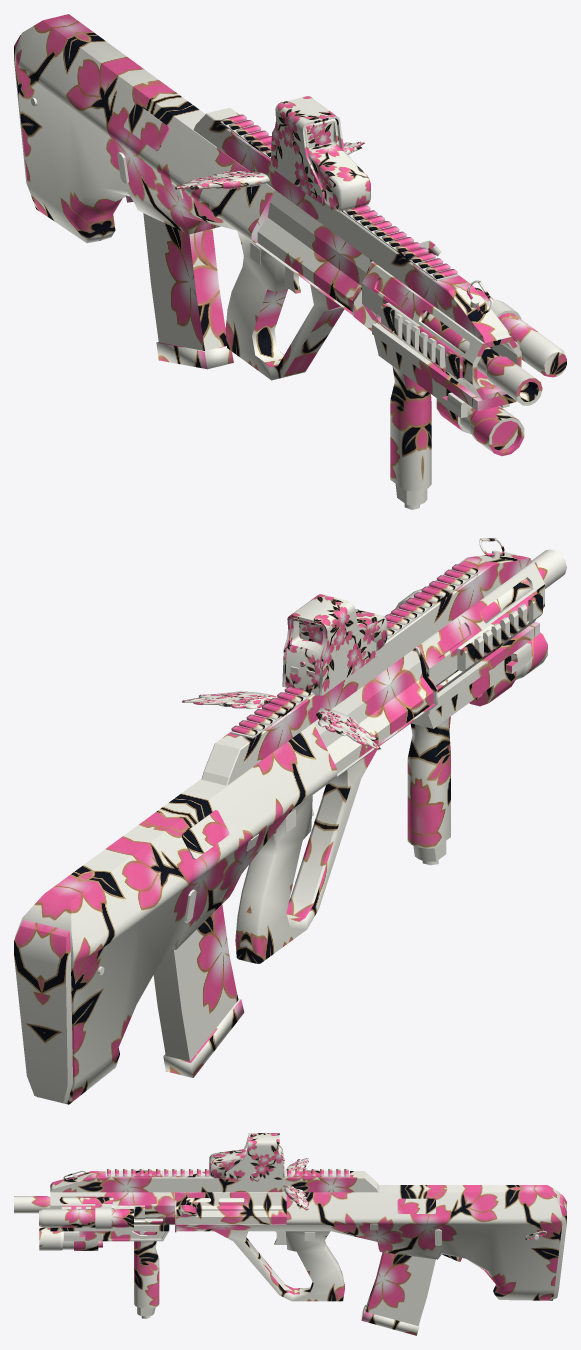
File: sakura_aug_a3_dark_cupid.glb
3 views of the same model, one above another, from view 1: azimuth 30°, elevation 25°; view 2: azimuth 150°, elevation 25°; view 3: azimuth 270°, elevation 25° (orthographic). The views are drawn at different scales.
Visible parts, largest first — view 1: Model_AUG_A3, Model_Magazine, DotSight, Wings_Dark_Cupid_LOD0_R; view 2: Model_AUG_A3, Model_Magazine, DotSight, Wings_Dark_Cupid_LOD0_R, Wings_Dark_Cupid_LOD0_L; view 3: Model_AUG_A3, Model_Magazine, DotSight, Wings_Dark_Cupid_LOD0_L.
Boxes of the visible parts, <box> form: Model_AUG_A3: <box>14,14,566,509</box>; Model_Magazine: <box>143,213,233,369</box>; DotSight: <box>270,96,370,211</box>; Wings_Dark_Cupid_LOD0_R: <box>174,171,269,189</box>; Model_AUG_A3: <box>14,538,566,1104</box>; Model_Magazine: <box>153,904,244,1077</box>; DotSight: <box>282,594,387,696</box>; Wings_Dark_Cupid_LOD0_R: <box>316,707,380,750</box>; Wings_Dark_Cupid_LOD0_L: <box>182,691,277,709</box>; Model_AUG_A3: <box>14,1169,566,1318</box>; Model_Magazine: <box>361,1252,435,1335</box>; DotSight: <box>209,1133,284,1182</box>; Wings_Dark_Cupid_LOD0_L: <box>284,1185,308,1210</box>.
Size of the model in its own units: 0.1662 by 0.289 by 0.7412.
3 materials, 3 textured.
